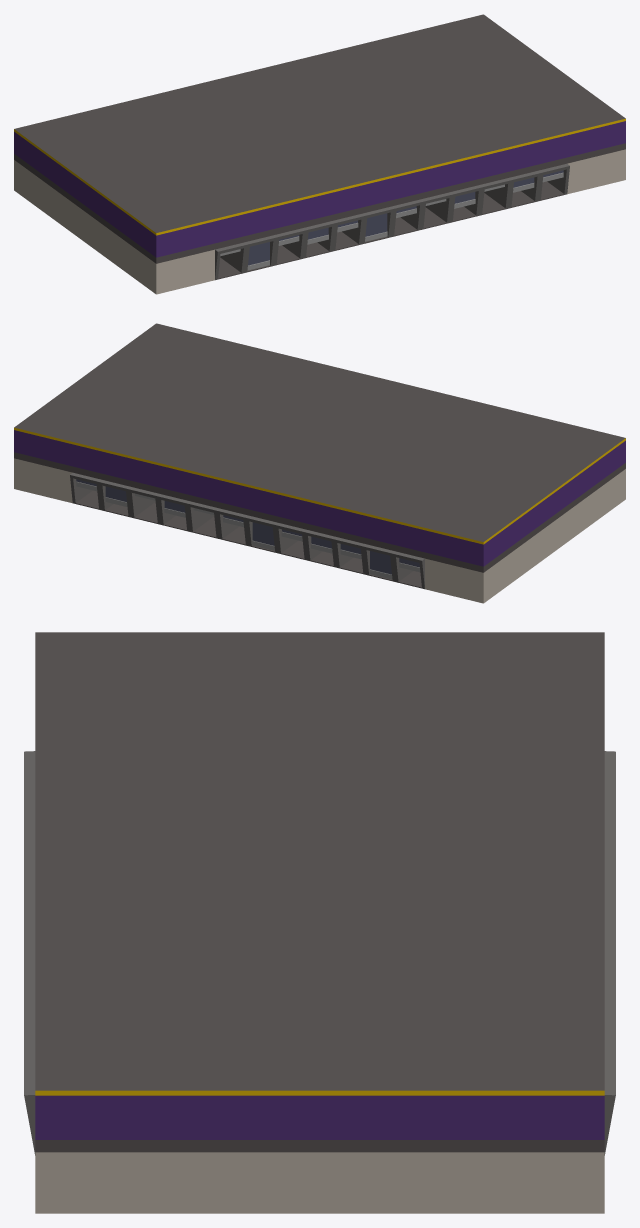
File: Depot_Garage_S3.fbx
The picture shows the model from 3 angles, top to bottom: view 1: azimuth 30°, elevation 25°; view 2: azimuth 150°, elevation 25°; view 3: azimuth 270°, elevation 25°; orthographic projection. The views are drawn at different scales.
Visible parts, largest first — view 1: Depot_Garage; view 2: Depot_Garage; view 3: Depot_Garage.
Part boxes in pixels (bbox=[...]): Depot_Garage: bbox=[14, 14, 625, 294]; Depot_Garage: bbox=[14, 323, 625, 603]; Depot_Garage: bbox=[24, 632, 615, 1213].
Size of the model in its own units: 8000 by 1000 by 4366.
